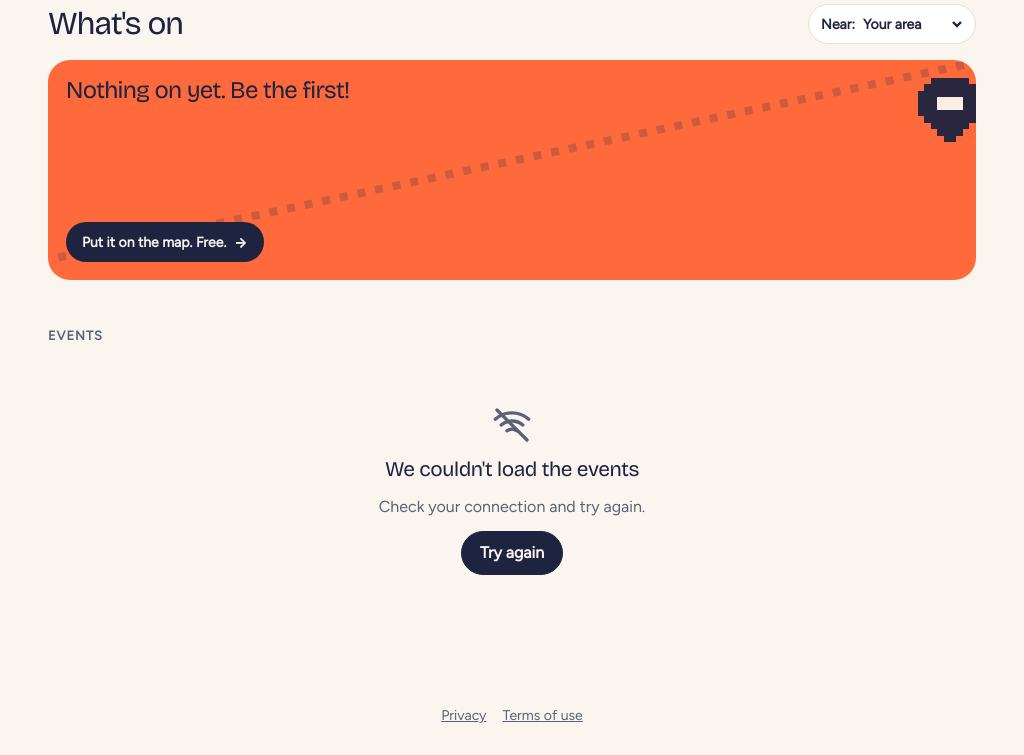
Test case: home › shows the error state on a 429, and Retry reloads only when clicked
The width and height of the screenshot is (1024, 755).
(page scrolled)
Expected: the message shows "We couldn't load the events", [385,457,639,482]
Click the button "Try again": coordinates (512, 553) [461,531,563,575]
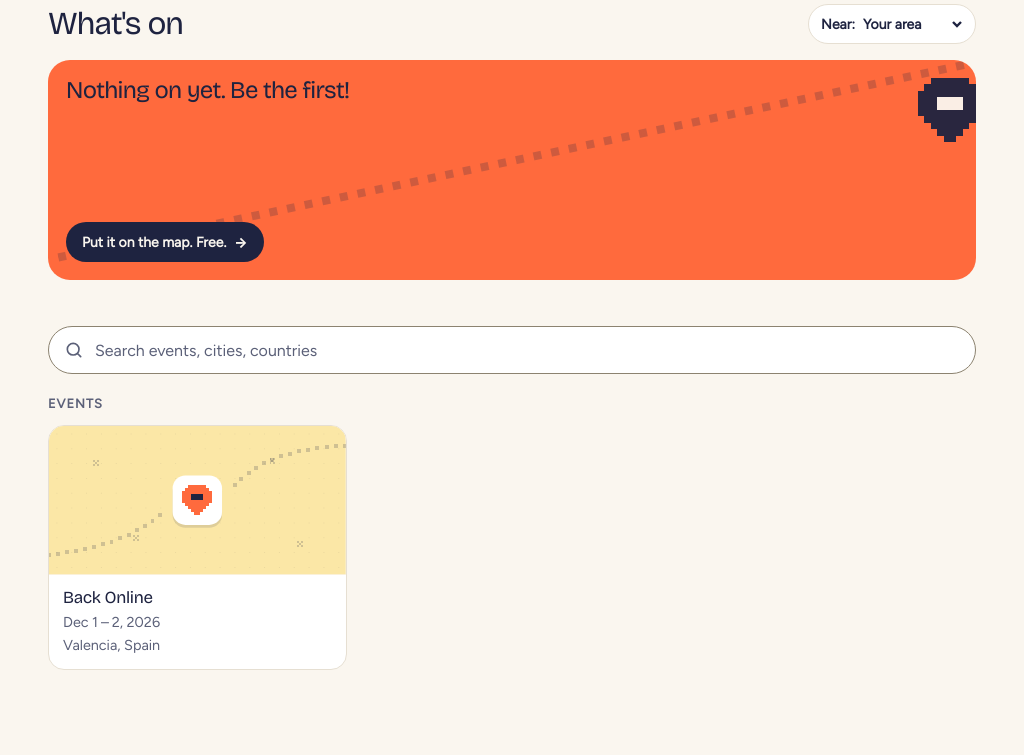
Now the link "Back Online Dec 1 – 2, 2026 Valencia, Spain" is shown, box [48,425,347,670]
